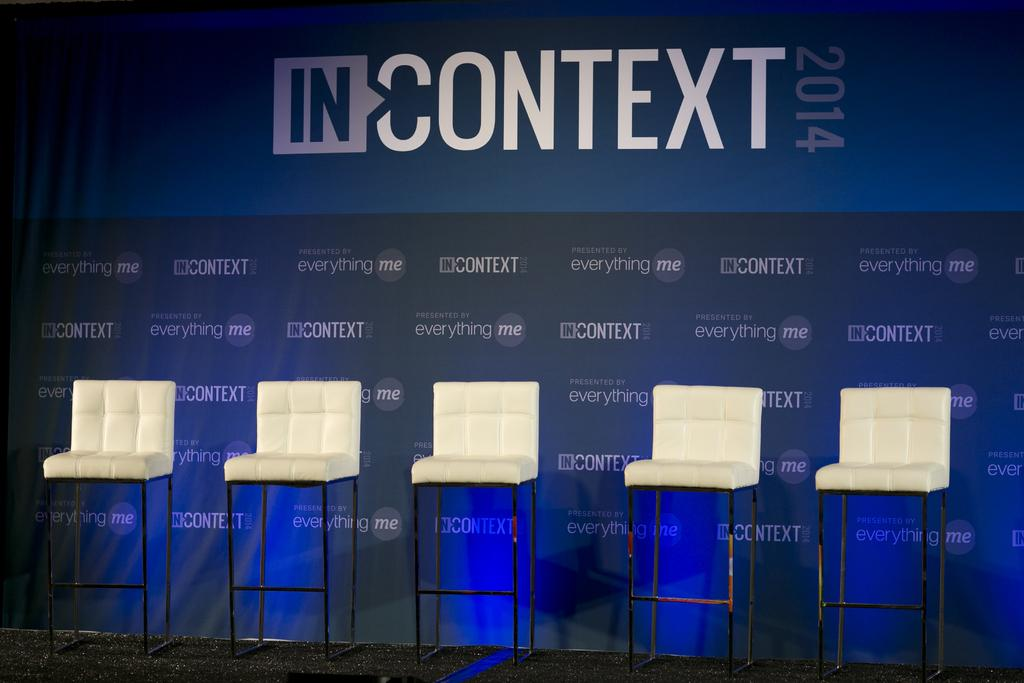Chair: (623, 384, 766, 675), (814, 388, 951, 679), (38, 378, 180, 658), (411, 383, 541, 673), (220, 378, 357, 647)
